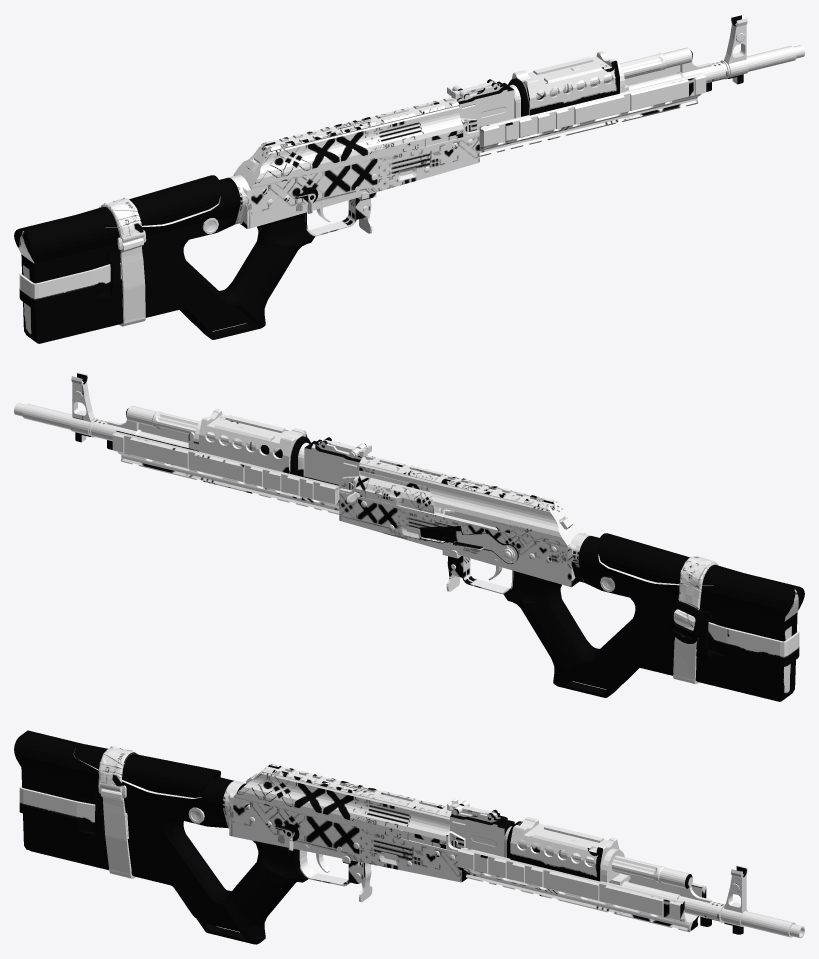
3 renders of one model, top to bottom at view 1: azimuth 30°, elevation 25°; view 2: azimuth 150°, elevation 25°; view 3: azimuth 330°, elevation 25°, orthographic.
Parts seen in each view (by area): view 1: Gun_Root; view 2: Gun_Root; view 3: Gun_Root.
Part boxes in pixels (left/top/right/bottom): Gun_Root: left=14, top=14, right=804, bottom=343; Gun_Root: left=14, top=372, right=804, bottom=701; Gun_Root: left=14, top=730, right=804, bottom=944.
Bounding box in the file's own units: 0.8806 × 0.2065 × 0.0629.
1 material, 1 textured.
